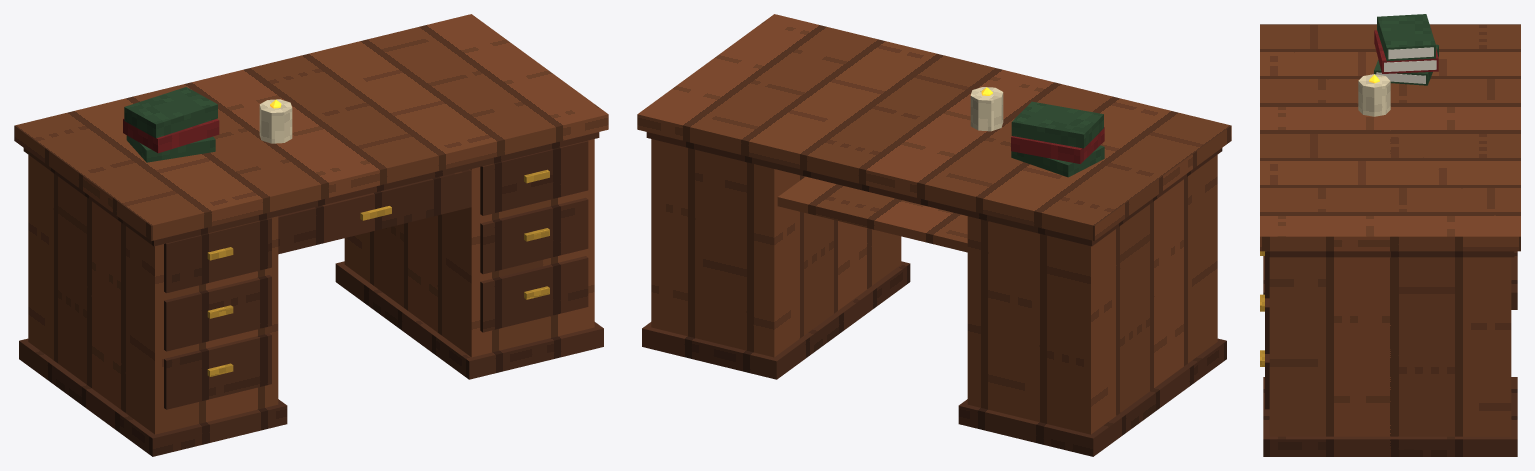
The model's file is desk.glb.
The picture shows the model from 3 angles, left to right: view 1: azimuth 30°, elevation 25°; view 2: azimuth 150°, elevation 25°; view 3: azimuth 270°, elevation 25°; orthographic projection. The views are drawn at different scales.
Visible parts, largest first — view 1: Desk; view 2: Desk; view 3: Desk.
Boxes of the visible parts, x1,y1,x2,y2 form: Desk: (14, 14, 608, 456); Desk: (637, 14, 1231, 456); Desk: (1260, 14, 1520, 456).
Size of the model in its own units: 1.56 by 0.8912 by 0.81.
9 materials, 6 textured.
